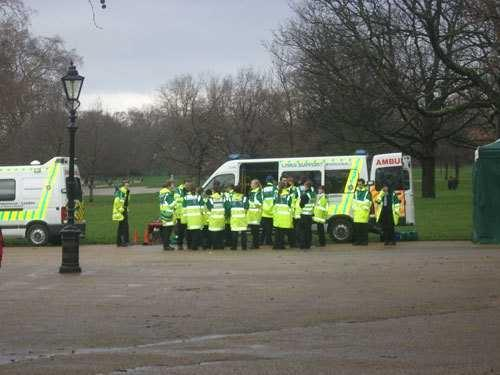car: (198, 150, 416, 243)
